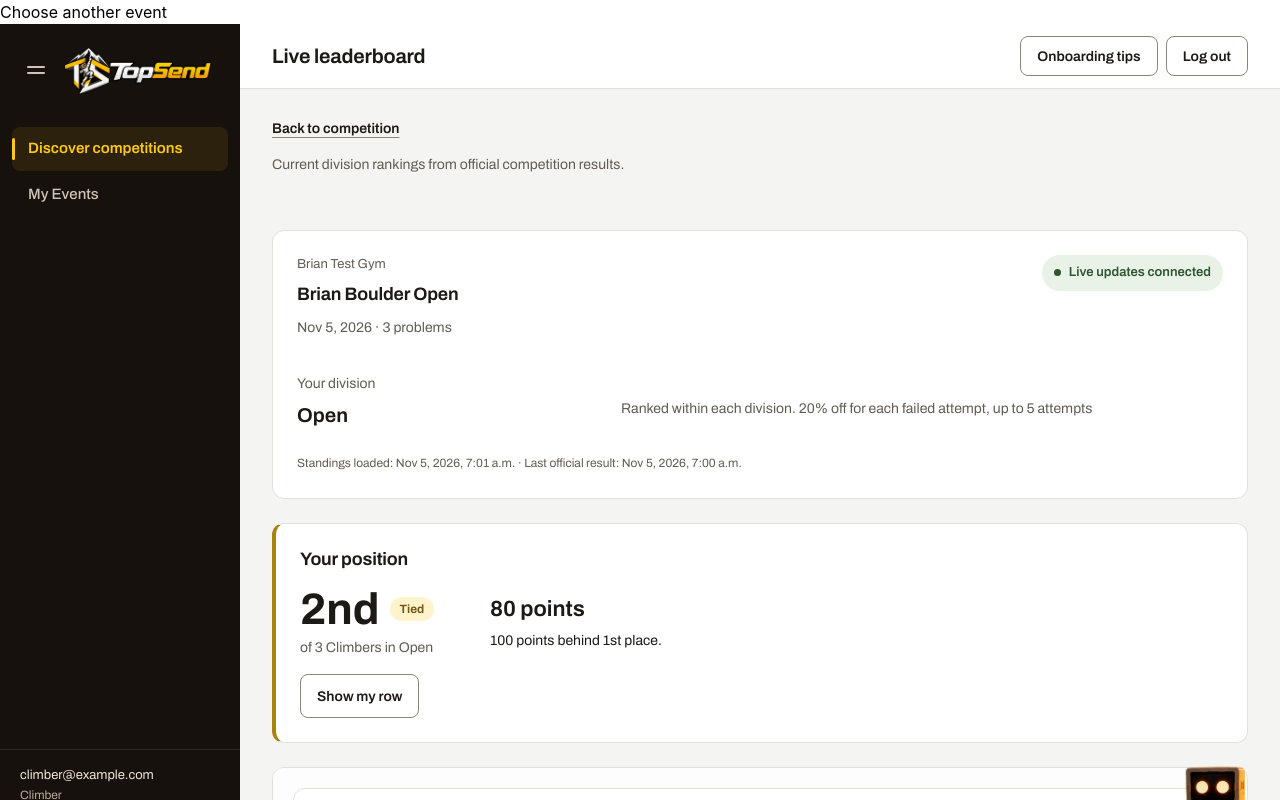
AC-022 the AI Route Assistant's chatbot on the leaderboard › gives a registered Climber the leaderboard's chatbot
Click the button named "Ask AI": point(1213, 762) [1166,725,1260,799]
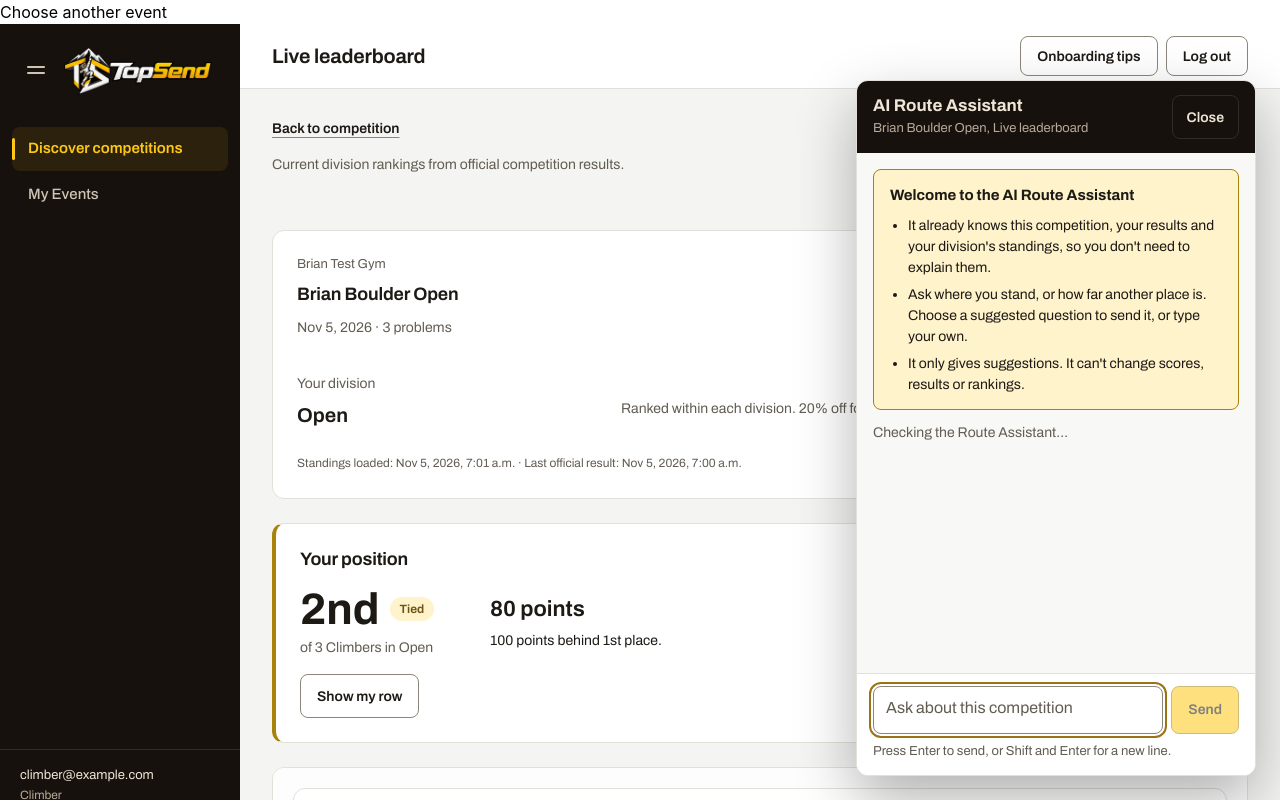
Expected: the text "Brian Boulder Open, Live leaderboard" is shown, [873,119,1088,138]
Expected: the list item "Ask where you stand, or how far another place is." is shown, [908,286,1207,344]
